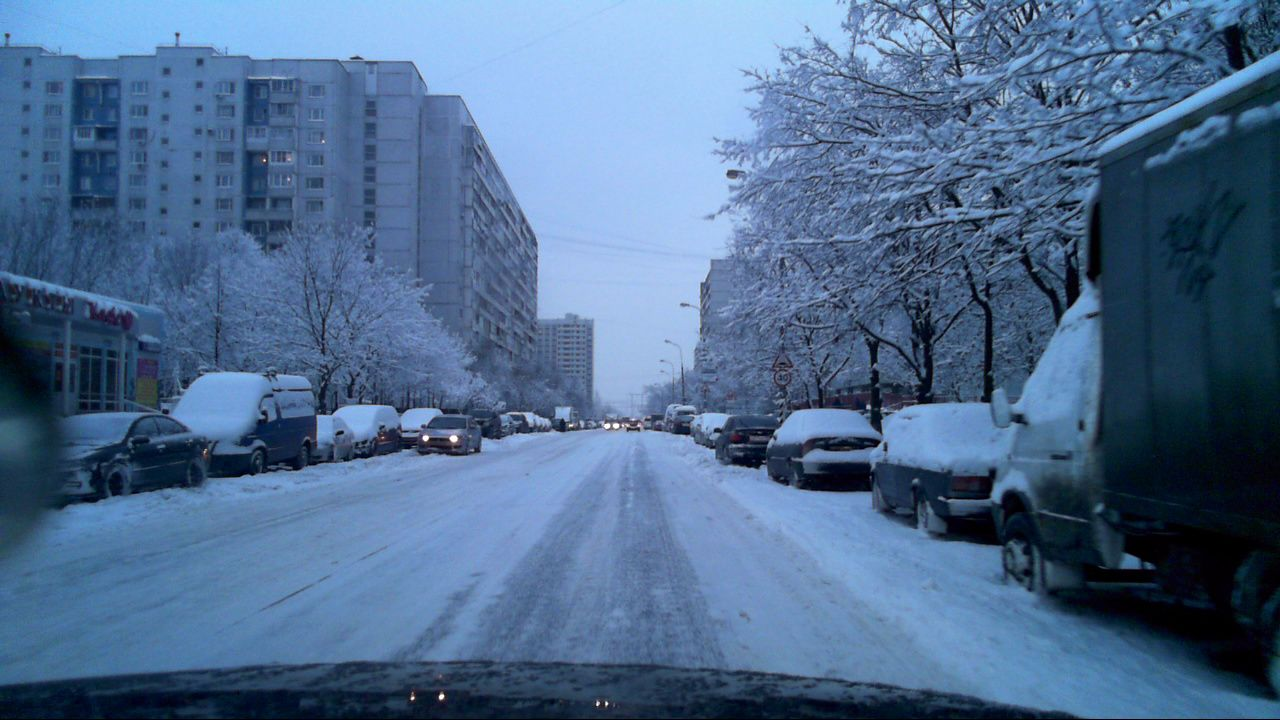speed_warning_40: (773, 367, 792, 386)
